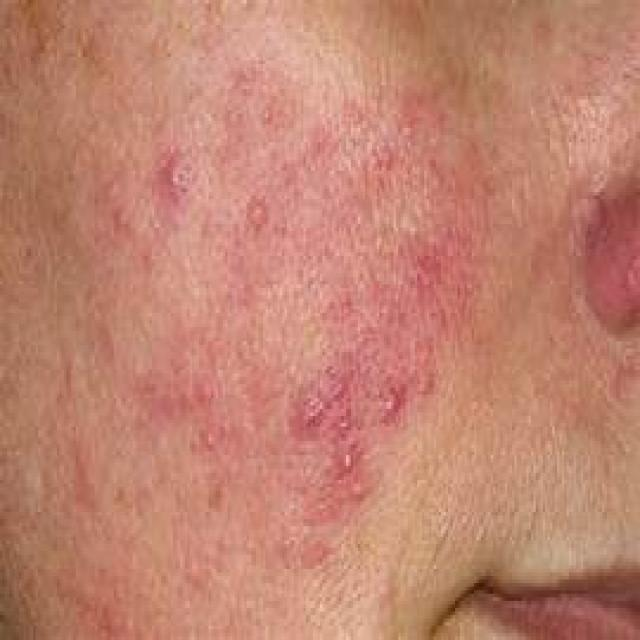Rosacea: (284, 358, 440, 495), (155, 146, 280, 244)
